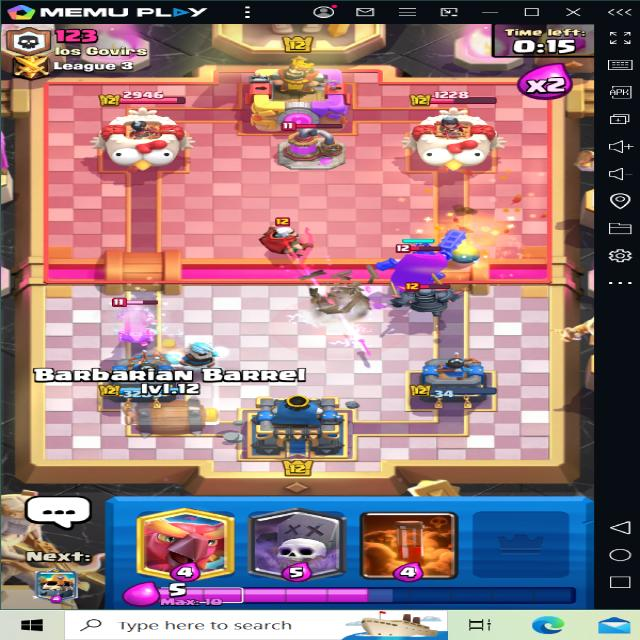battle-ram: (104, 292, 166, 351)
elixir-collector: (272, 122, 354, 176)
magic-archer: (256, 214, 310, 267)
pekka: (403, 280, 461, 316)
skeleton-king: (391, 241, 452, 289)
